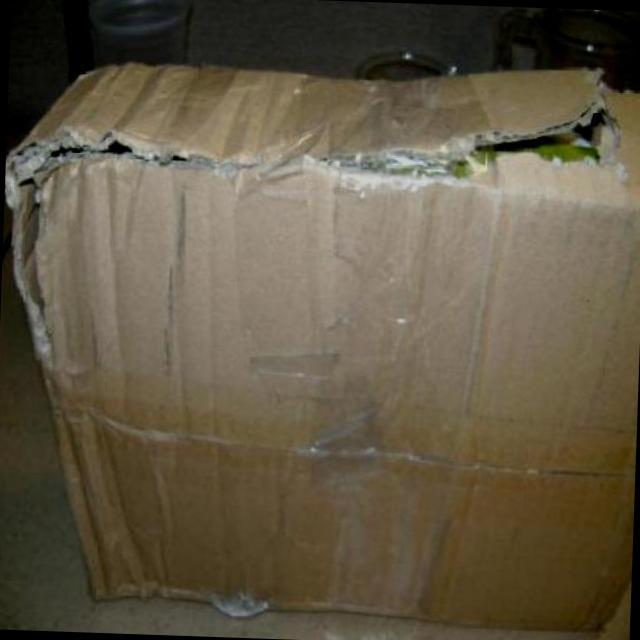crushed: (51, 190, 638, 633)
tear: (291, 71, 640, 195), (50, 133, 258, 190), (1, 139, 47, 350)
